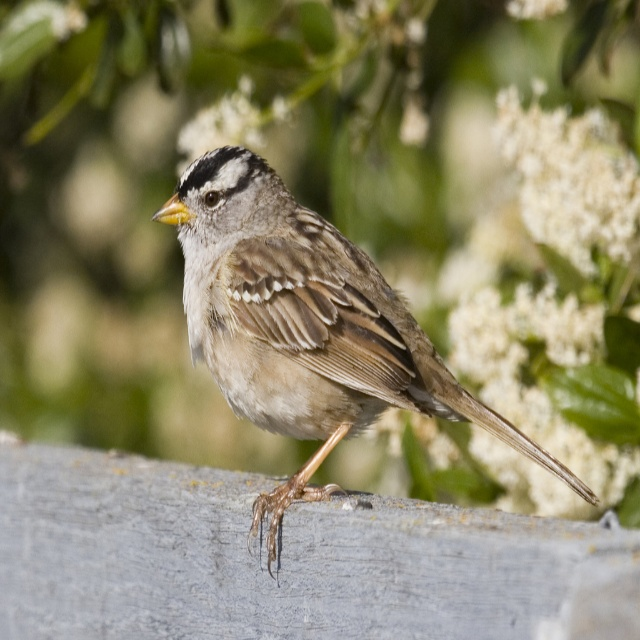Sparrow: (154, 144, 597, 579)
